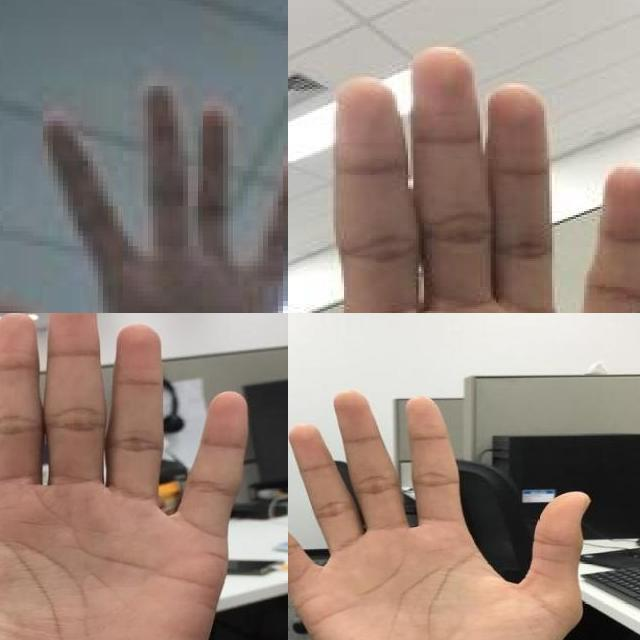no-gloves: (288, 43, 640, 313), (0, 313, 252, 640), (288, 389, 595, 640), (0, 71, 288, 313)
